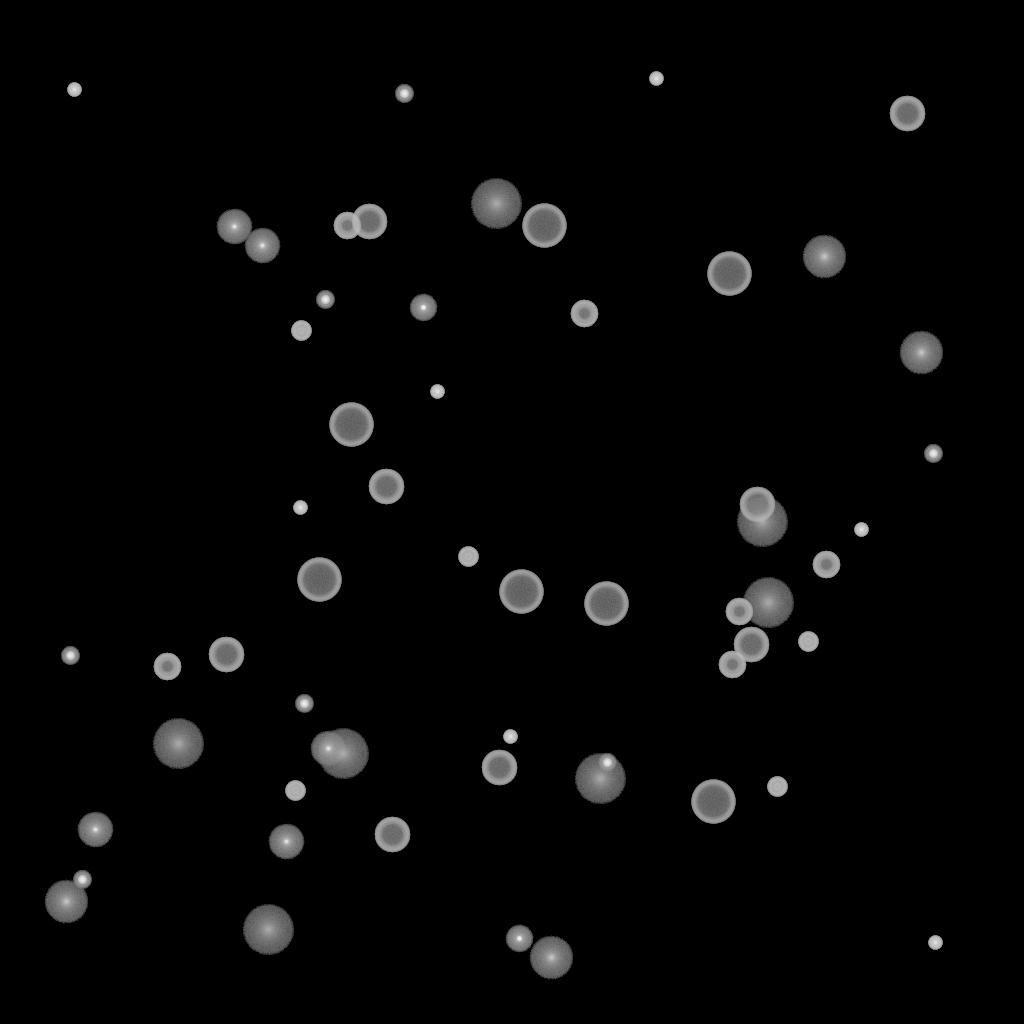depth:-10: (505, 925, 533, 953), (409, 294, 437, 322)
depth:-20: (316, 291, 334, 309), (598, 754, 616, 772), (295, 695, 313, 713), (73, 871, 91, 889), (395, 85, 413, 103), (61, 647, 79, 665), (924, 445, 942, 463)
depth:-30: (503, 730, 517, 744), (854, 523, 868, 537), (293, 501, 307, 515), (928, 936, 942, 950), (430, 385, 444, 399), (649, 72, 663, 86), (67, 83, 81, 97)
depth:-40: (767, 777, 787, 797), (458, 547, 478, 567), (798, 632, 818, 652), (285, 781, 305, 801), (291, 321, 311, 341)
depth:-50: (812, 551, 840, 579), (333, 212, 361, 240), (718, 651, 746, 679), (570, 300, 598, 328), (725, 598, 753, 626), (153, 653, 181, 681)
depth:-60: (374, 817, 410, 853), (481, 750, 517, 786), (368, 469, 404, 505), (733, 627, 769, 663), (739, 487, 775, 523), (889, 96, 925, 132), (351, 204, 387, 240), (208, 637, 244, 673)
depth:-70: (499, 570, 543, 614), (707, 252, 751, 296), (329, 403, 373, 447), (297, 558, 341, 602), (584, 582, 628, 626), (691, 780, 735, 824), (522, 204, 566, 248)
depth:0: (244, 228, 280, 264), (310, 731, 346, 767), (77, 812, 113, 848), (268, 824, 304, 860), (216, 209, 252, 245)
depth:10: (529, 936, 573, 980), (44, 880, 88, 924), (899, 331, 943, 375), (802, 235, 846, 279)
depth:20: (242, 905, 294, 955), (470, 179, 522, 229), (317, 729, 369, 779), (574, 754, 626, 804), (152, 719, 204, 769), (742, 578, 794, 628), (736, 497, 788, 547)
